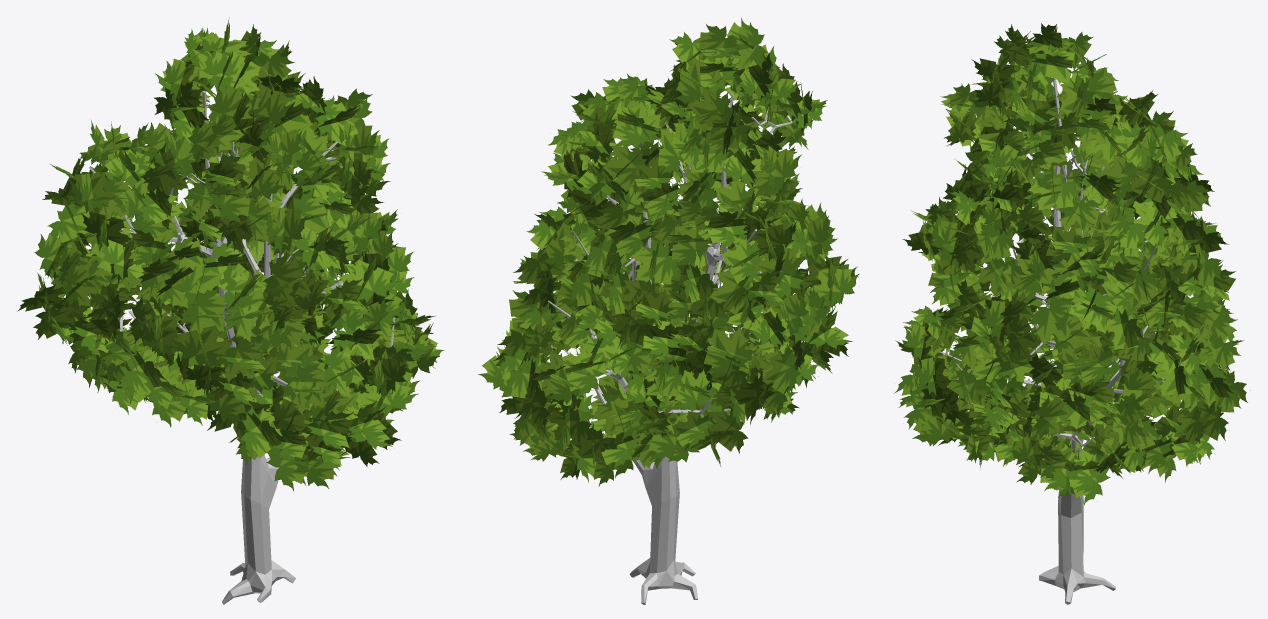
Rendered from SM_Maple.fbx.
3 views of the same model, side by side, from view 1: azimuth 30°, elevation 25°; view 2: azimuth 150°, elevation 25°; view 3: azimuth 270°, elevation 25° (orthographic). The views are drawn at different scales.
Parts seen in each view (by area): view 1: SM_Maple; view 2: SM_Maple; view 3: SM_Maple.
Boxes of the visible parts, x1=… form: SM_Maple: x1=17, y1=17, x2=444, y2=604; SM_Maple: x1=478, y1=18, x2=859, y2=604; SM_Maple: x1=894, y1=23, x2=1250, y2=604.
Size of the model in its own units: 742 by 1108 by 657.
